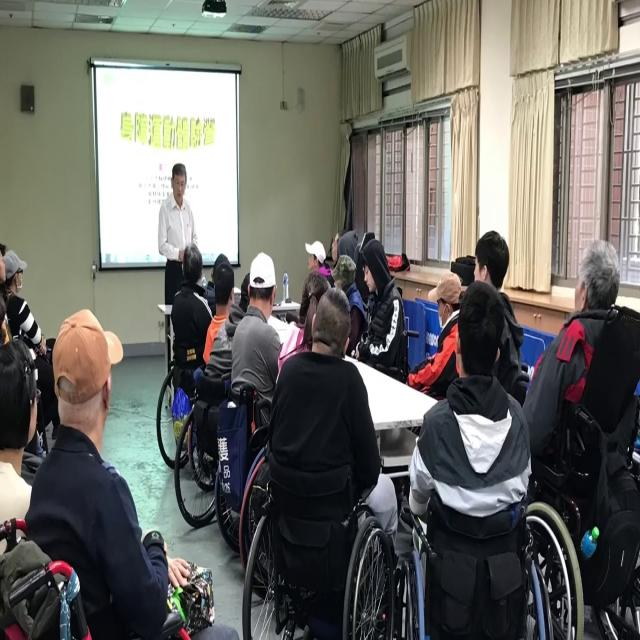wheelchairs: (231, 422, 397, 640), (381, 479, 568, 640), (175, 384, 284, 543), (154, 338, 260, 497)
